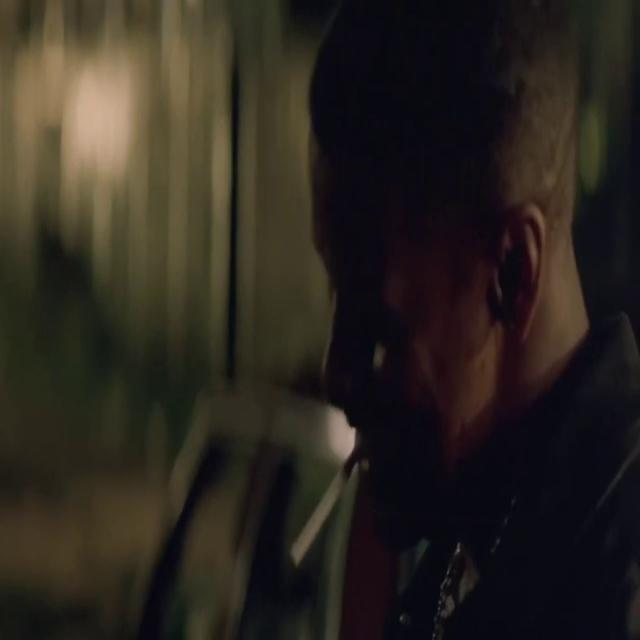Smooking: (275, 424, 378, 568)
